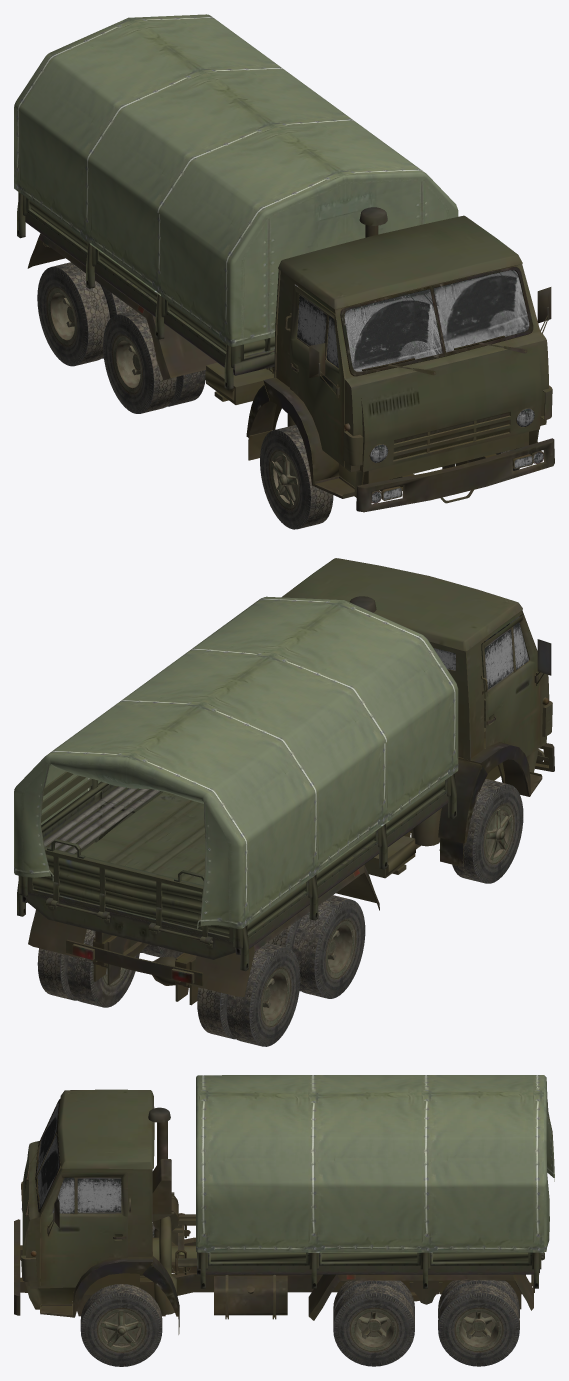
The model's file is kamaz.glb.
The picture shows the model from 3 angles, top to bottom: view 1: azimuth 30°, elevation 25°; view 2: azimuth 150°, elevation 25°; view 3: azimuth 270°, elevation 25°; orthographic projection. The views are drawn at different scales.
Visible parts, largest first — view 1: Kung_1, Body_0, Chassi_2; view 2: Kung_1, Chassi_2, Body_0; view 3: Kung_1, Body_0, Chassi_2.
Boxes of the visible parts, bbox=[...] form: Kung_1: bbox=[14, 14, 458, 346]; Body_0: bbox=[27, 207, 554, 512]; Chassi_2: bbox=[17, 192, 543, 529]; Kung_1: bbox=[14, 596, 458, 928]; Chassi_2: bbox=[17, 616, 528, 1046]; Body_0: bbox=[28, 558, 554, 1005]; Kung_1: bbox=[196, 1075, 554, 1252]; Body_0: bbox=[14, 1089, 534, 1334]; Chassi_2: bbox=[21, 1102, 544, 1366].
Size of the model in its own units: 2.93 by 3.35 by 7.08.
Materials: 5 (5 with a texture image).
